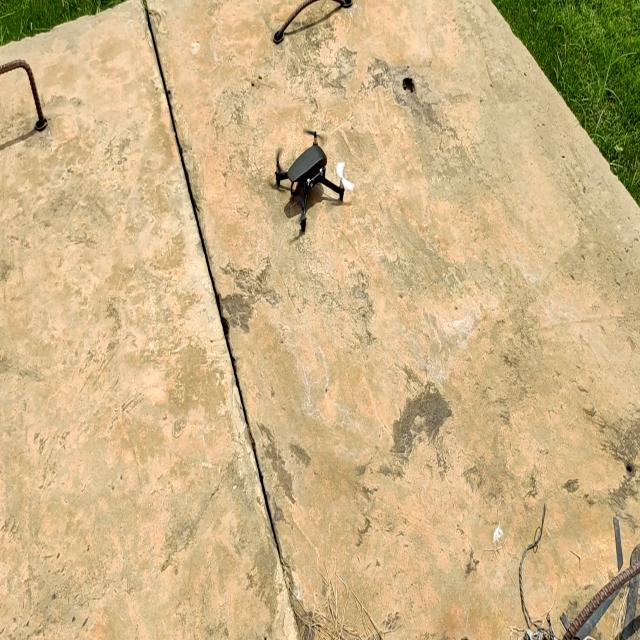drone: (262, 105, 357, 244)
